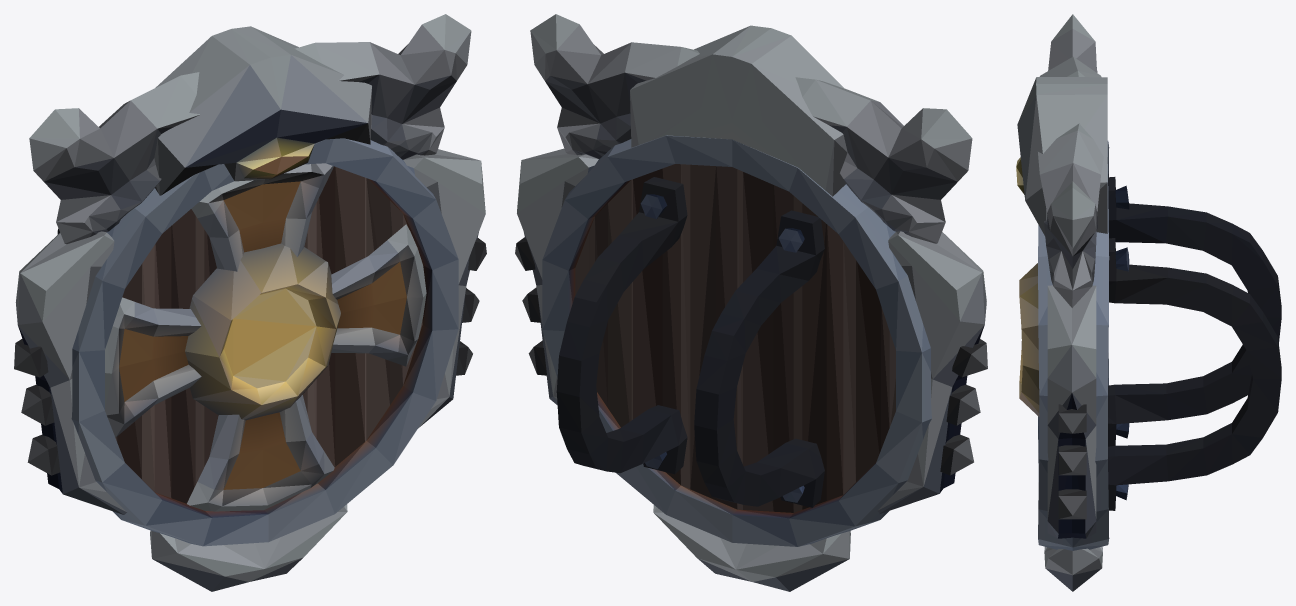
Rendered from weapon_shield_silver_4.fbx.
The picture shows the model from 3 angles, left to right: view 1: azimuth 30°, elevation 25°; view 2: azimuth 150°, elevation 25°; view 3: azimuth 270°, elevation 25°; orthographic projection. The views are drawn at different scales.
Parts seen in each view (by area): view 1: weapon_shield_silver_4; view 2: weapon_shield_silver_4; view 3: weapon_shield_silver_4.
Boxes of the visible parts, x1=… form: weapon_shield_silver_4: x1=14, y1=14, x2=486, y2=591; weapon_shield_silver_4: x1=515, y1=14, x2=987, y2=591; weapon_shield_silver_4: x1=1016, y1=14, x2=1281, y2=591.
Size of the model in its own units: 0.8146 by 0.8882 by 0.4345.
